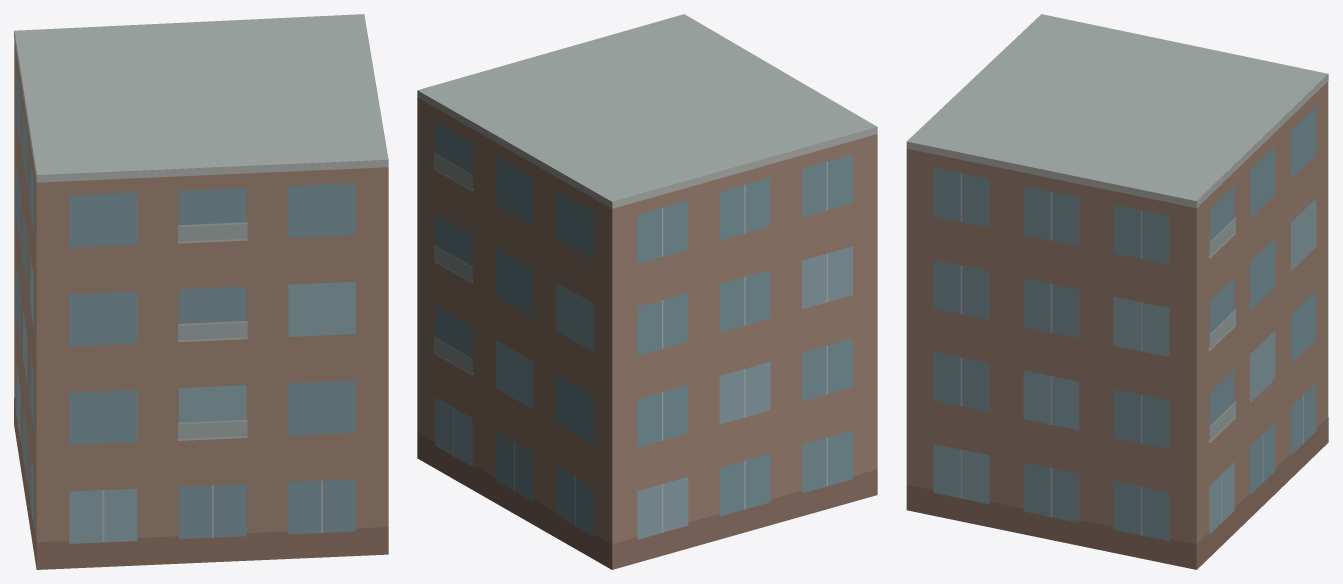
Rendered from survey-upis-32895635.glb.
3 views of the same model, side by side, from view 1: azimuth 30°, elevation 25°; view 2: azimuth 150°, elevation 25°; view 3: azimuth 270°, elevation 25° (orthographic). The views are drawn at different scales.
Visible parts, largest first — view 1: survey-upis-32895635.tmp; view 2: survey-upis-32895635.tmp; view 3: survey-upis-32895635.tmp.
Part boxes in pixels (x1=…): survey-upis-32895635.tmp: x1=14, y1=14, x2=388, y2=569; survey-upis-32895635.tmp: x1=417, y1=14, x2=877, y2=569; survey-upis-32895635.tmp: x1=906, y1=14, x2=1328, y2=569.
Size of the model in its own units: 13.95 by 12.8 by 13.28.
